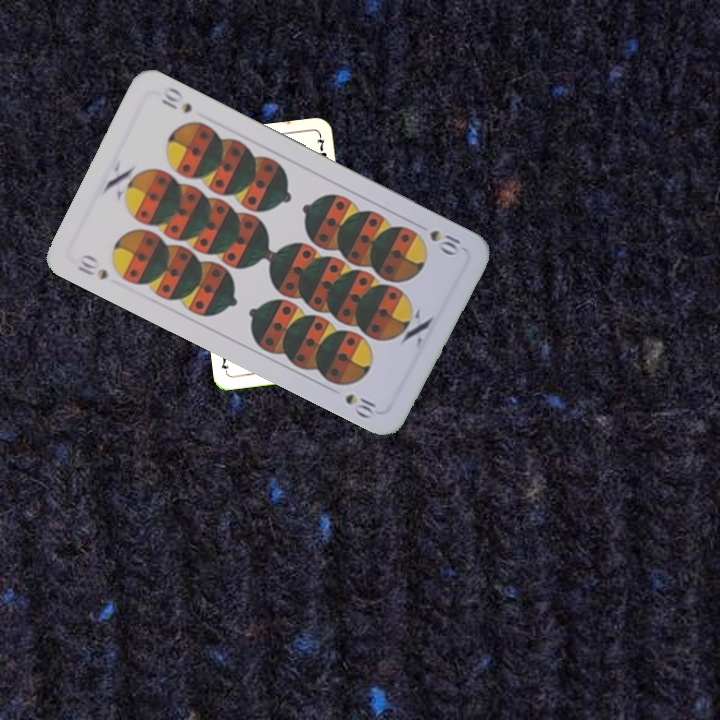S10: (425, 225, 464, 258), (73, 250, 111, 282)
